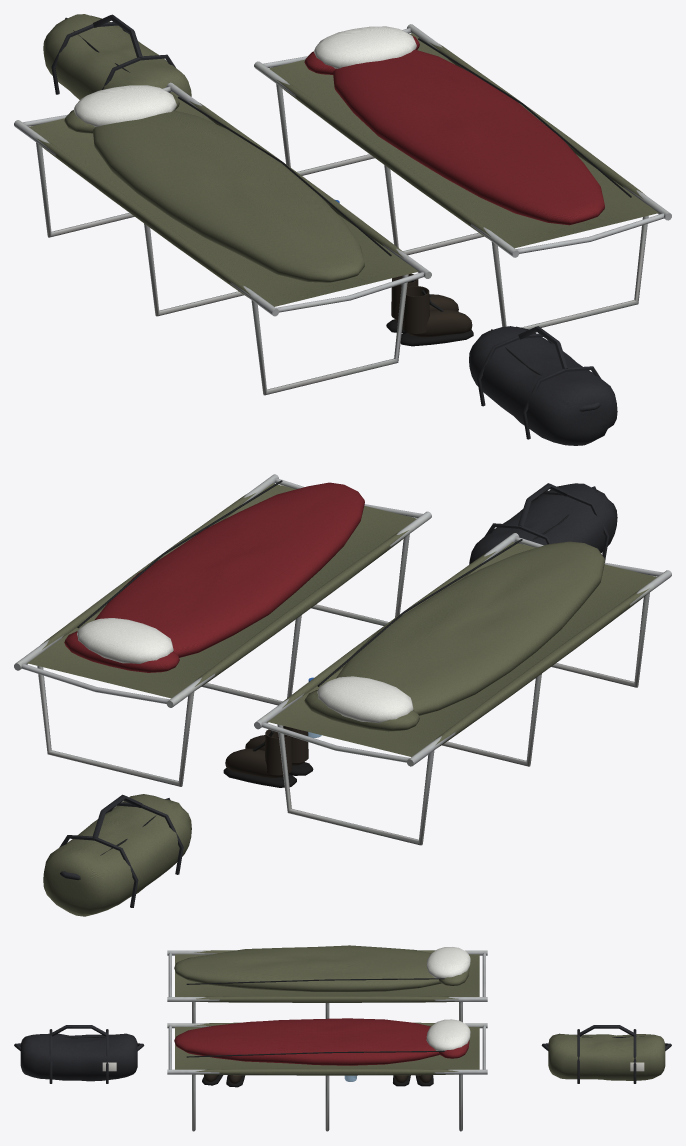
Rendered from endurance-fitout.glb.
The picture shows the model from 3 angles, top to bottom: view 1: azimuth 30°, elevation 25°; view 2: azimuth 150°, elevation 25°; view 3: azimuth 270°, elevation 25°; orthographic projection. The views are drawn at different scales.
Parts seen in each view (by area): view 1: ENDURANCE_fitout; view 2: ENDURANCE_fitout; view 3: ENDURANCE_fitout.
Part boxes in pixels (box(x1,y1,x2,y2)): ENDURANCE_fitout: box(14, 14, 671, 445); ENDURANCE_fitout: box(14, 474, 671, 916); ENDURANCE_fitout: box(14, 945, 671, 1131).
Bounding box in the file's own units: 1.84 × 0.6079 × 4.21.
Materials: 12 (5 with a texture image).
